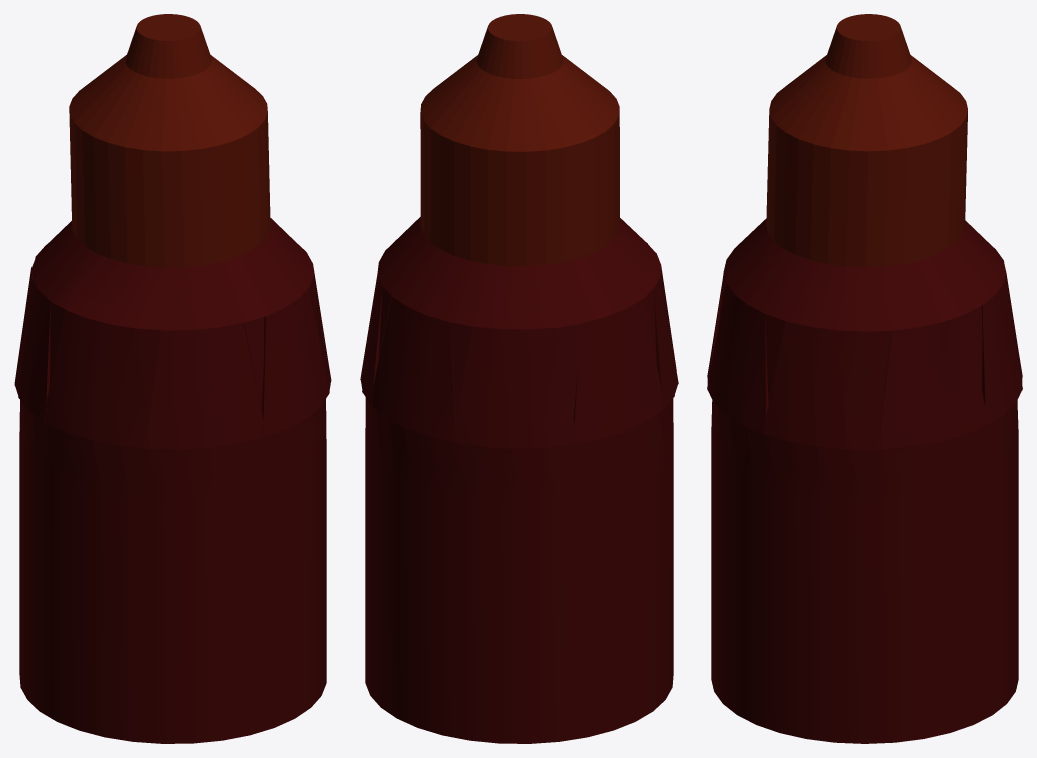
File: tendurdiyot (6).fbx
3 renders of one model, left to right at view 1: azimuth 30°, elevation 25°; view 2: azimuth 150°, elevation 25°; view 3: azimuth 270°, elevation 25°, orthographic.
Parts seen in each view (by area): view 1: Cylinder, Cylinder.001; view 2: Cylinder, Cylinder.001; view 3: Cylinder, Cylinder.001.
Boxes of the visible parts, x1=… form: Cylinder: x1=14, y1=218, x2=331, y2=743; Cylinder.001: x1=69, y1=14, x2=270, y2=267; Cylinder: x1=360, y1=217, x2=678, y2=743; Cylinder.001: x1=420, y1=14, x2=619, y2=266; Cylinder: x1=707, y1=219, x2=1022, y2=743; Cylinder.001: x1=766, y1=14, x2=967, y2=267.
Bounding box in the file's own units: 123 × 279 × 123.
